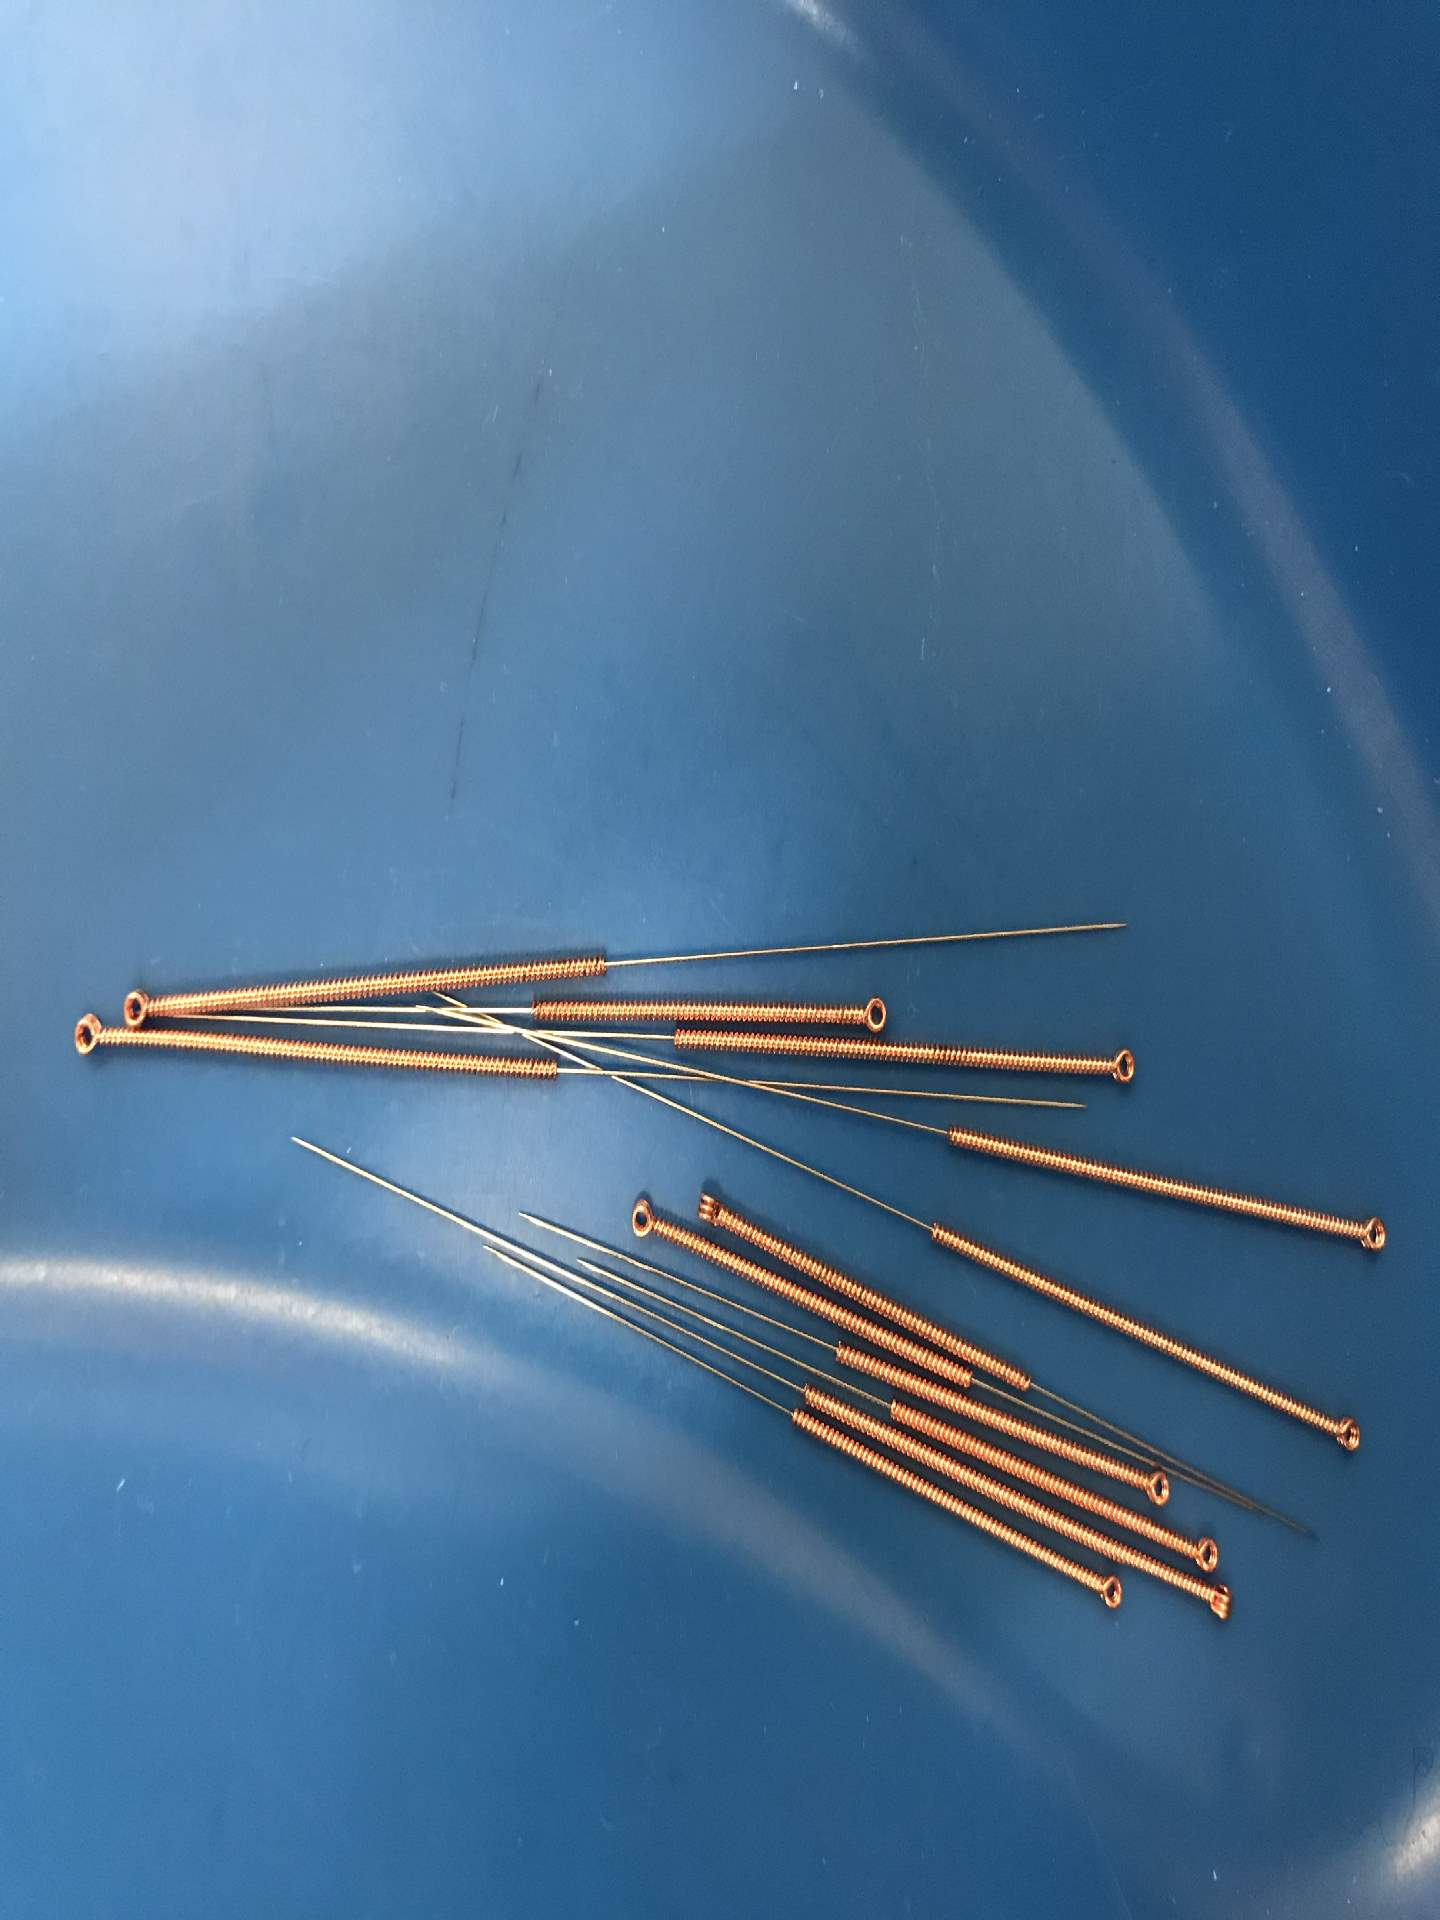needle: (1180, 1568, 1249, 1634), (1334, 1202, 1401, 1265), (1085, 1039, 1151, 1095), (833, 984, 898, 1039), (1314, 1401, 1373, 1460), (619, 1184, 669, 1249), (59, 1008, 112, 1067), (1077, 1568, 1137, 1618), (691, 1176, 740, 1237), (110, 980, 166, 1030), (1178, 1522, 1227, 1572), (1128, 1463, 1177, 1512)
